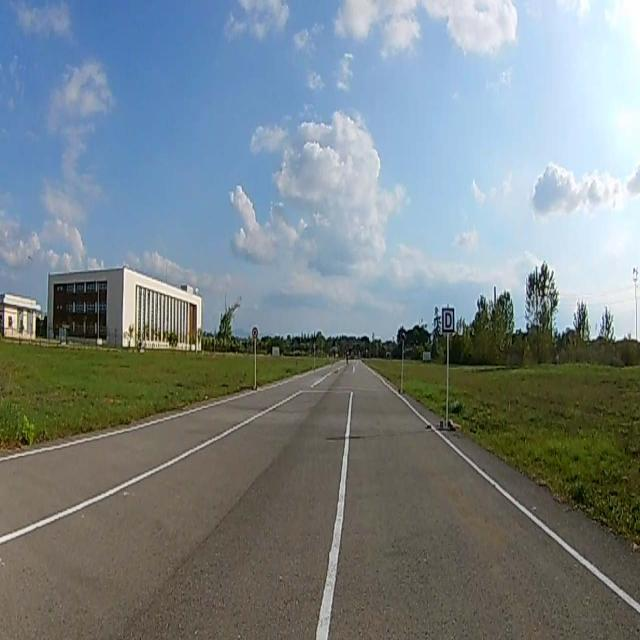durak: (442, 307, 454, 333)
